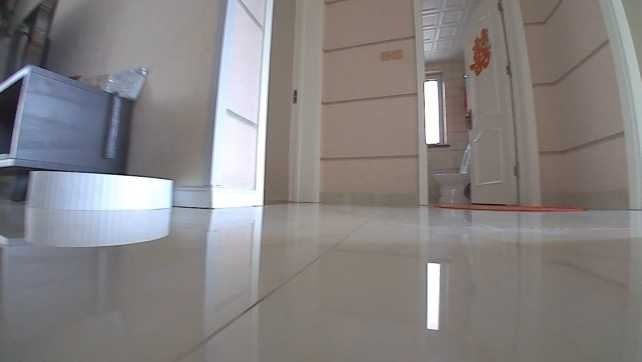door_anno: (460, 0, 520, 205)
toilet: (430, 141, 475, 205)
